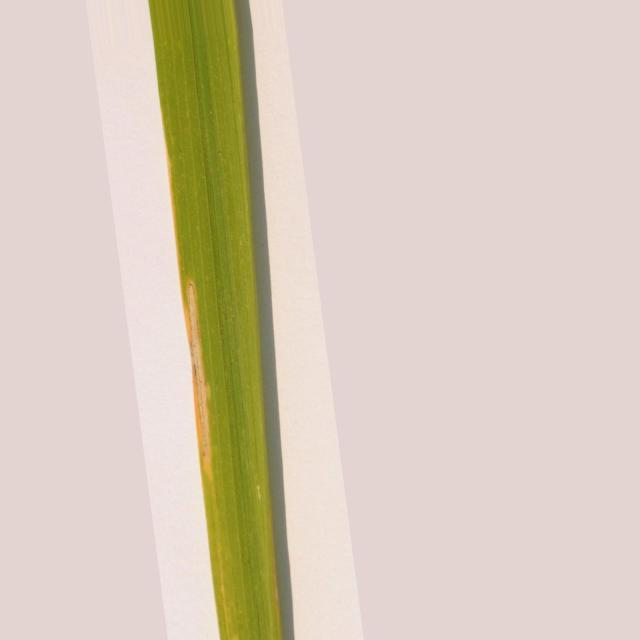Bacterial_Leaf_Blight: (186, 281, 214, 499)
